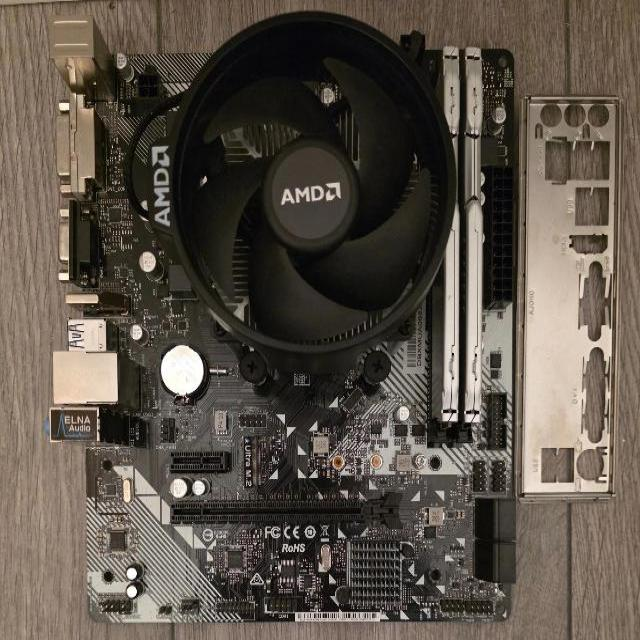CPU_Fan: (169, 8, 458, 354)
RAM: (464, 44, 484, 427)
